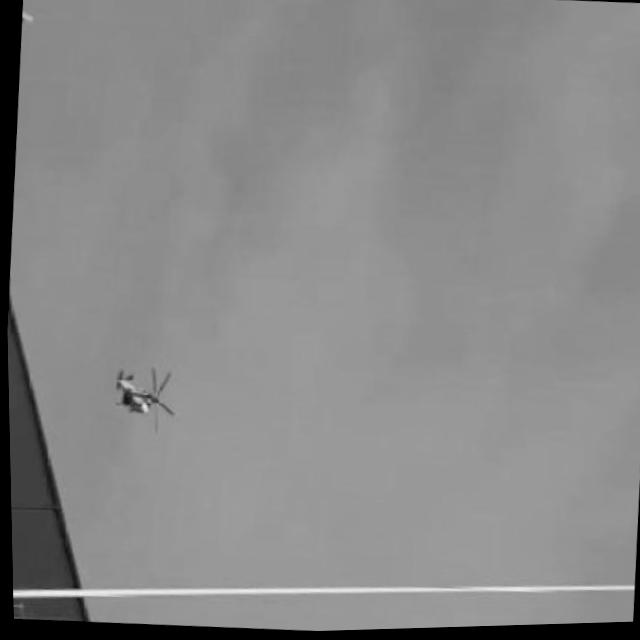helikopter: (87, 348, 187, 447)
